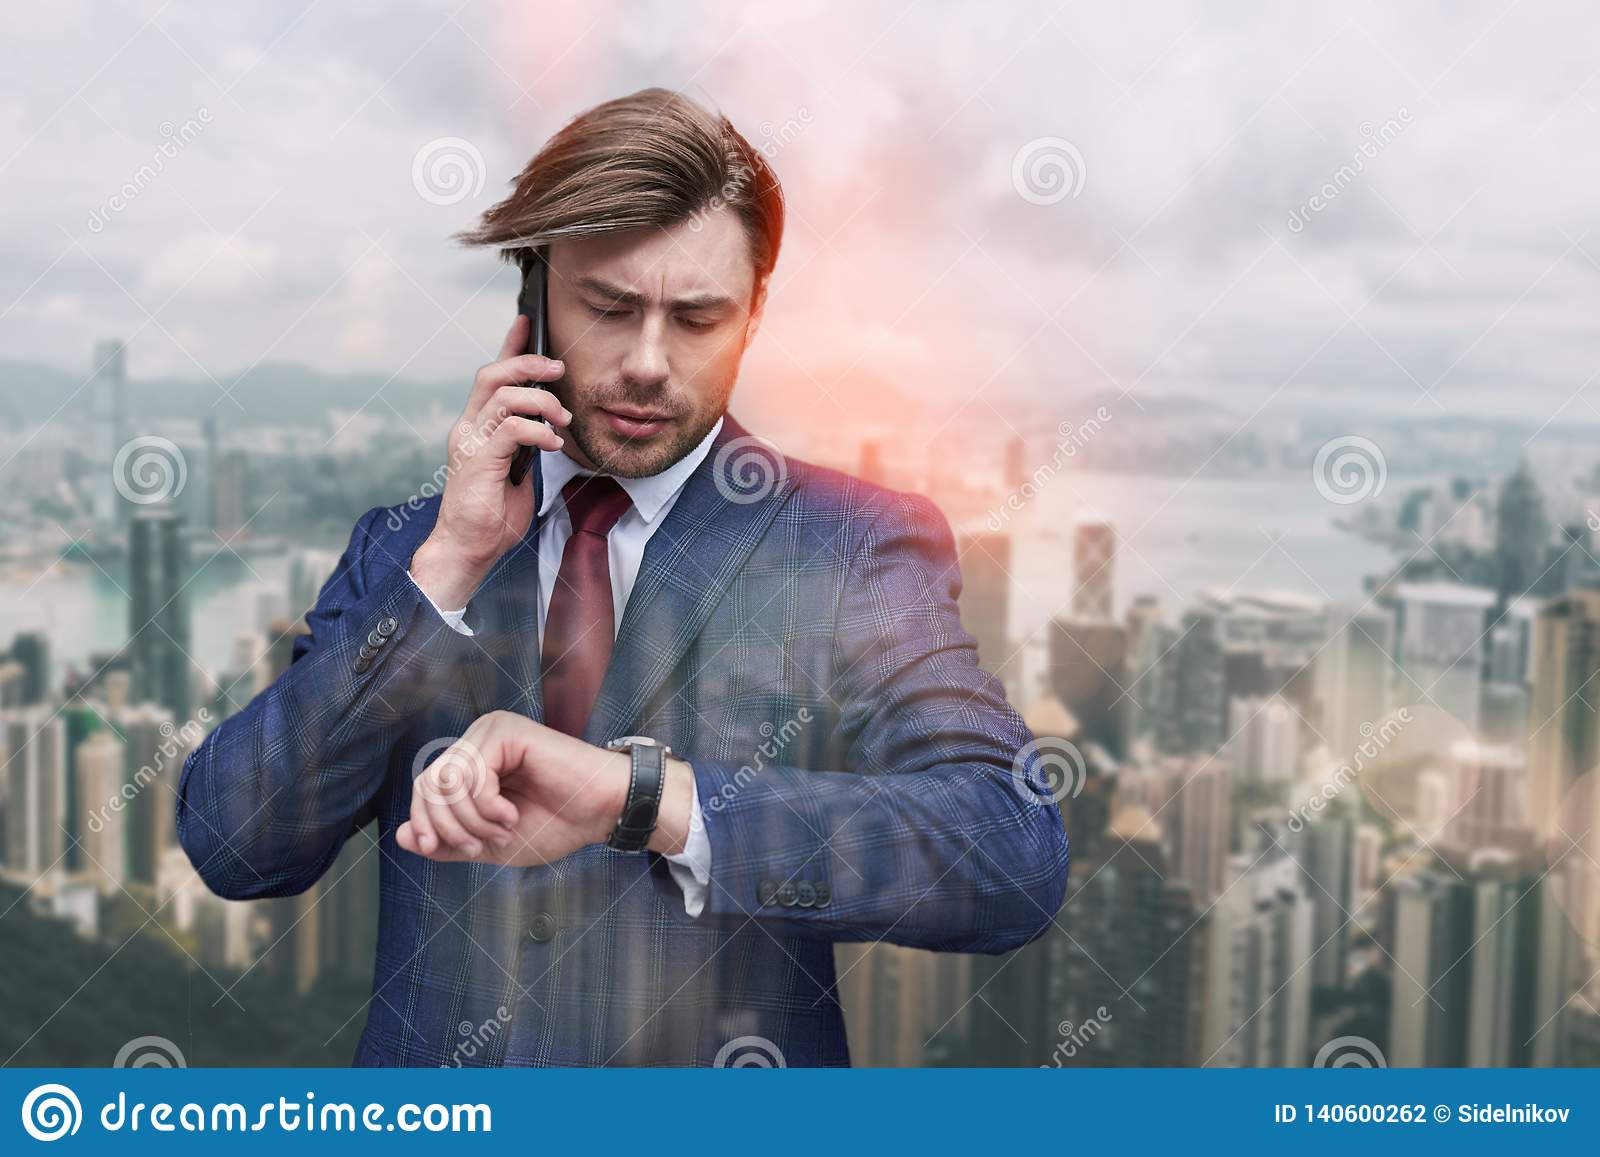phone: (504, 254, 552, 500)
talk: (430, 239, 743, 593)
